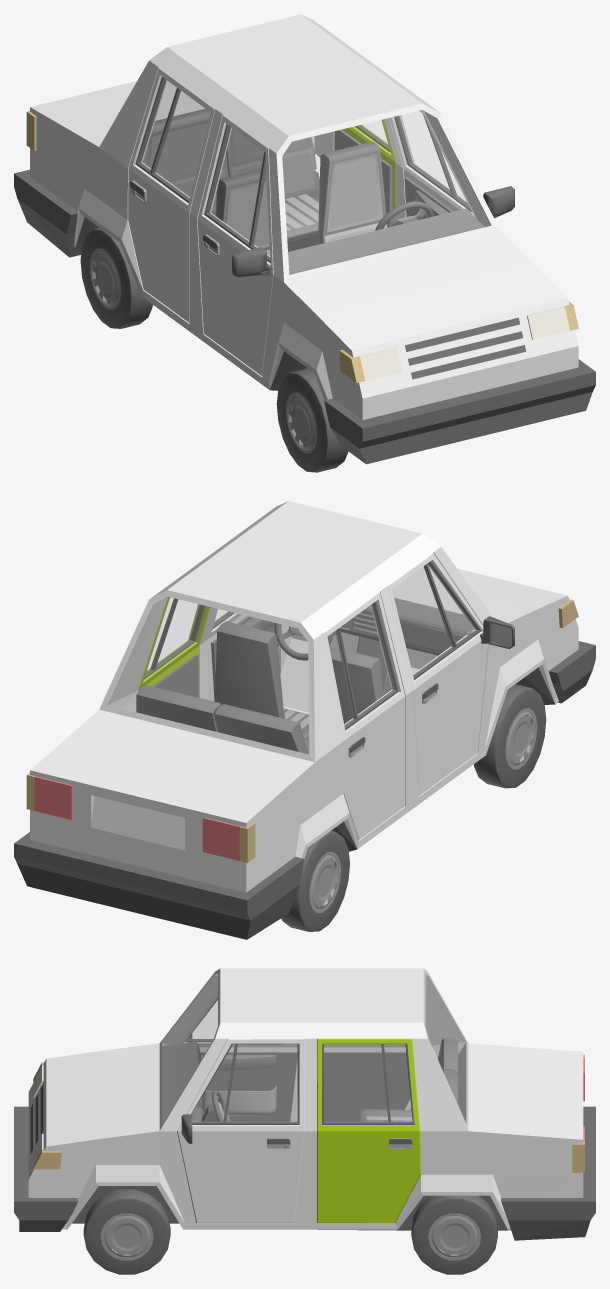
3 views of the same model, one above another, from view 1: azimuth 30°, elevation 25°; view 2: azimuth 150°, elevation 25°; view 3: azimuth 270°, elevation 25° (orthographic). The views are drawn at different scales.
Parts seen in each view (by area): view 1: Chassis_Chassis_0, Windows_Windows_0, Chassis_Bumpers_0, Interior_InteriorPanel_0, FR_Door_Chassis_0, RR_Door_Chassis_0, Interior_Handler_0, RR_Door_Windows_0, FR_Door_Windows_0, FR_Wheel_Tire_0, RR_Wheel_Tire_0, FR_Door_Bumpers_0 (+11 smaller); view 2: Chassis_Chassis_0, Windows_Windows_0, Chassis_Bumpers_0, Interior_InteriorPanel_0, FR_Door_Chassis_0, RR_Door_Chassis_0, FR_Door_Windows_0, RR_Door_Windows_0, FR_Wheel_Tire_0, RR_Wheel_Tire_0, Brake_Lights_Brake_lights_0, FR_Door_Bumpers_0 (+11 smaller); view 3: Chassis_Chassis_0, FL_Door_Chassis_0, RL_Door_Chassis_0, Chassis_Bumpers_0, Windows_Windows_0, FL_Door_Windows_0, RL_Door_Windows_0, RR_Door_InteriorPanel_0, FL_Wheel_Tire_0, RL_Wheel_Tire_0, FR_Door_InteriorPanel_0, Interior_InteriorPanel_0 (+9 smaller).
Part boxes in pixels (left/top/right/bottom): Chassis_Chassis_0: left=30, top=14, right=578, bottom=419; Windows_Windows_0: left=156, top=82, right=489, bottom=273; Chassis_Bumpers_0: left=14, top=169, right=595, bottom=464; Interior_InteriorPanel_0: left=142, top=108, right=484, bottom=274; FR_Door_Chassis_0: left=197, top=115, right=273, bottom=375; RR_Door_Chassis_0: left=128, top=68, right=215, bottom=322; Interior_Handler_0: left=226, top=153, right=386, bottom=255; RR_Door_Windows_0: left=139, top=80, right=209, bottom=198; FR_Door_Windows_0: left=208, top=127, right=269, bottom=258; FR_Wheel_Tire_0: left=276, top=368, right=348, bottom=472; RR_Wheel_Tire_0: left=80, top=227, right=152, bottom=328; FR_Door_Bumpers_0: left=203, top=124, right=271, bottom=277; Chassis_Chassis_0: left=30, top=501, right=578, bottom=892; Windows_Windows_0: left=108, top=568, right=461, bottom=753; Chassis_Bumpers_0: left=14, top=641, right=595, bottom=939; Interior_InteriorPanel_0: left=136, top=601, right=473, bottom=754; FR_Door_Chassis_0: left=387, top=553, right=488, bottom=795; RR_Door_Chassis_0: left=323, top=592, right=405, bottom=839; FR_Door_Windows_0: left=392, top=563, right=477, bottom=675; RR_Door_Windows_0: left=328, top=604, right=395, bottom=726; FR_Wheel_Tire_0: left=474, top=684, right=546, bottom=788; RR_Wheel_Tire_0: left=281, top=830, right=349, bottom=931; Brake_Lights_Brake_lights_0: left=34, top=776, right=239, bottom=860; FR_Door_Bumpers_0: left=413, top=561, right=514, bottom=701; Chassis_Chassis_0: left=28, top=968, right=583, bottom=1229; FL_Door_Chassis_0: left=177, top=1038, right=304, bottom=1223; RL_Door_Chassis_0: left=317, top=1038, right=420, bottom=1223; Chassis_Bumpers_0: left=14, top=1085, right=595, bottom=1240; Windows_Windows_0: left=164, top=974, right=465, bottom=1120; FL_Door_Windows_0: left=192, top=1044, right=297, bottom=1122; RL_Door_Windows_0: left=324, top=1044, right=411, bottom=1121; RR_Door_InteriorPanel_0: left=324, top=1052, right=410, bottom=1121; FL_Wheel_Tire_0: left=83, top=1189, right=170, bottom=1274; RL_Wheel_Tire_0: left=411, top=1195, right=497, bottom=1274; FR_Door_InteriorPanel_0: left=200, top=1052, right=297, bottom=1121; Interior_InteriorPanel_0: left=162, top=1038, right=457, bottom=1123.
Size of the model in its own units: 5.2 by 4.99 by 11.18.
